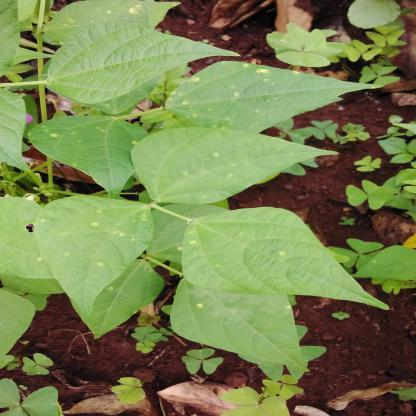Beans_Rust: (184, 207, 388, 313), (132, 126, 338, 201), (173, 64, 380, 134), (32, 201, 153, 317), (171, 278, 303, 366), (31, 115, 152, 196), (68, 259, 165, 343), (43, 2, 181, 44)
